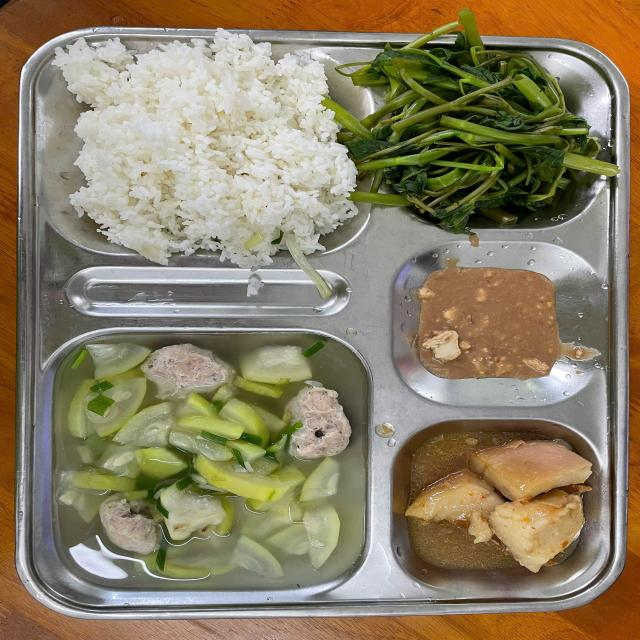canhbau: (61, 342, 362, 590)
rauxao: (382, 41, 599, 225)
salad: (63, 36, 349, 276)
thitkhogung: (405, 428, 589, 580)
